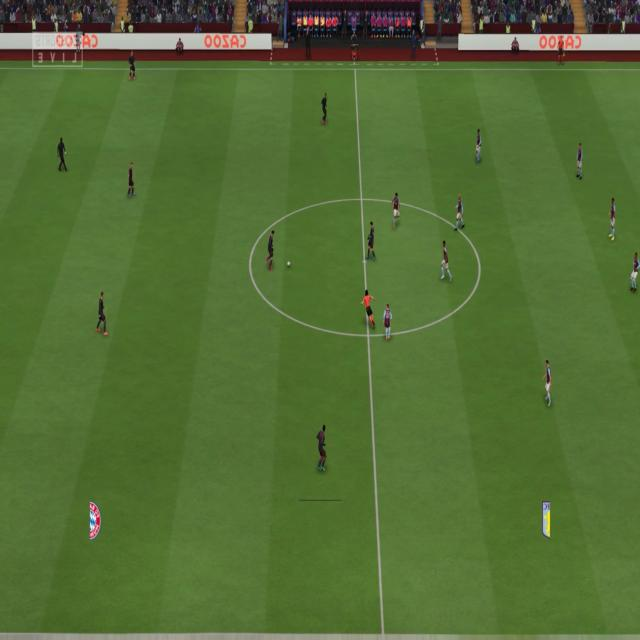Ball: (287, 260, 291, 268)
Referee: (362, 291, 377, 331)
Team-A: (93, 292, 107, 336), (316, 425, 328, 473), (125, 163, 137, 200), (265, 232, 276, 272), (55, 139, 68, 172), (366, 222, 376, 262), (127, 50, 138, 80), (320, 92, 329, 124)
Team-H: (542, 359, 554, 408), (440, 240, 454, 282), (628, 250, 639, 293), (607, 198, 617, 242), (455, 196, 466, 229), (391, 192, 401, 228), (473, 129, 483, 163), (384, 304, 393, 339), (575, 144, 584, 179)
